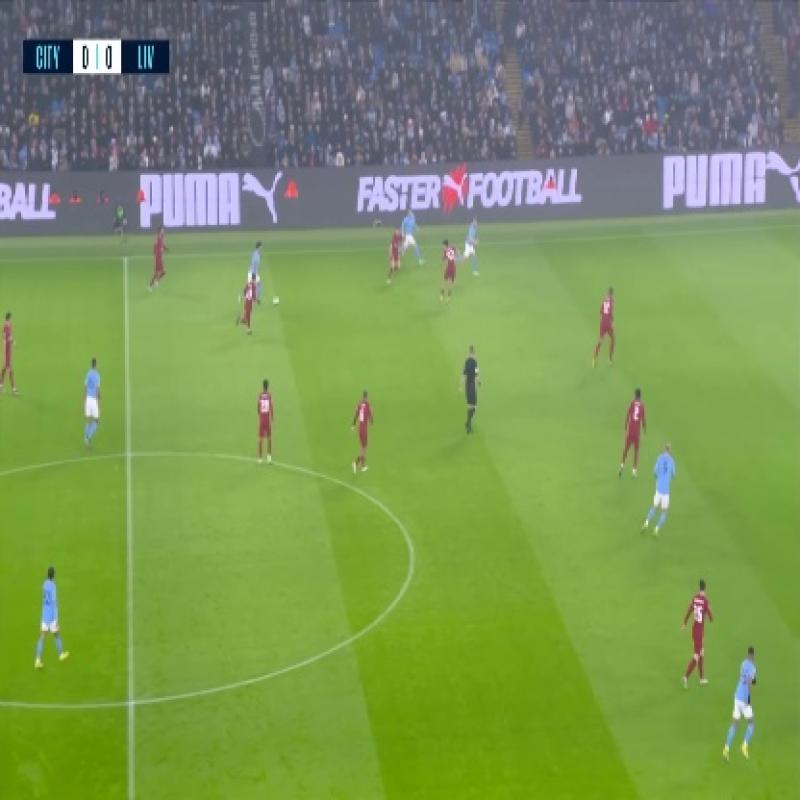13: (112, 242, 136, 275)
14: (110, 432, 144, 476)
15: (110, 675, 148, 727)
c: (393, 529, 429, 571)
